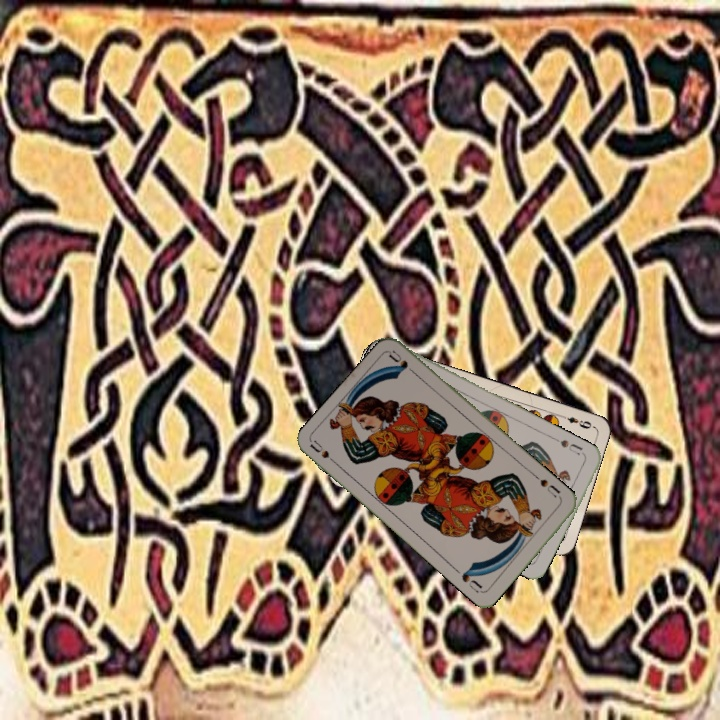E9: (556, 411, 596, 432)
SU: (307, 437, 342, 469), (551, 434, 585, 458), (536, 475, 563, 500)
